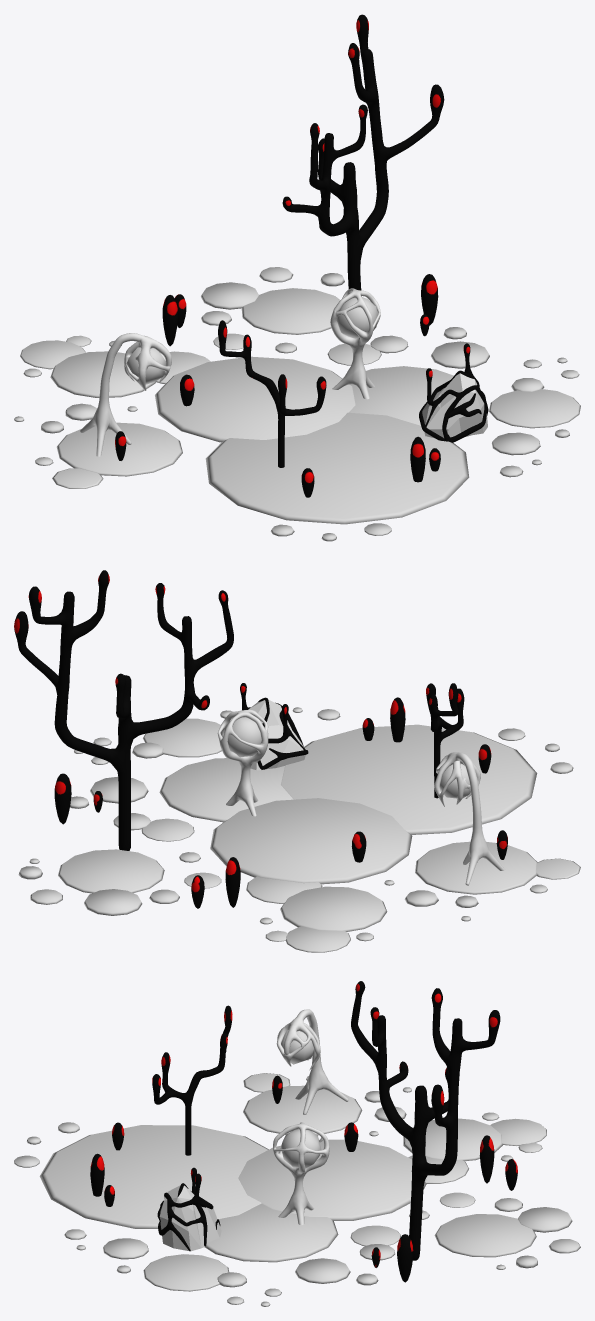
The model's file is CorruptionSet_5.fbx.
The picture shows the model from 3 angles, top to bottom: view 1: azimuth 30°, elevation 25°; view 2: azimuth 150°, elevation 25°; view 3: azimuth 270°, elevation 25°; orthographic projection. The views are drawn at different scales.
Visible parts, largest first — view 1: Circles, CorruptedTree1, Blobs, DownwardOrbStand, UpwardOrbStand, CorruptedTree2, rocks.001, Cube, Ball2, Ball1; view 2: Circles, CorruptedTree1, Blobs, DownwardOrbStand, UpwardOrbStand, CorruptedTree2, rocks.001, Cube, Ball2, Ball1; view 3: Circles, CorruptedTree1, Blobs, DownwardOrbStand, rocks.001, UpwardOrbStand, CorruptedTree2, Cube, Ball2, Ball1.
Part boxes in pixels (x1,y1,x2,y2): Circles: [14, 267, 580, 541]; CorruptedTree1: [282, 14, 444, 296]; Blobs: [115, 274, 440, 497]; DownwardOrbStand: [80, 333, 171, 456]; UpwardOrbStand: [330, 288, 380, 399]; CorruptedTree2: [218, 320, 326, 467]; rocks.001: [422, 373, 487, 438]; Cube: [419, 343, 488, 442]; Ball2: [336, 297, 377, 338]; Ball1: [125, 347, 166, 384]; Circles: [18, 707, 580, 952]; CorruptedTree1: [14, 570, 233, 850]; Blobs: [54, 697, 507, 908]; DownwardOrbStand: [434, 752, 505, 885]; UpwardOrbStand: [217, 709, 268, 816]; CorruptedTree2: [426, 683, 464, 798]; rocks.001: [248, 700, 305, 770]; Cube: [240, 683, 308, 769]; Ball2: [224, 717, 261, 757]; Ball1: [438, 764, 470, 798]; Circles: [14, 1073, 580, 1306]; CorruptedTree1: [351, 981, 500, 1260]; Blobs: [90, 1075, 517, 1282]; DownwardOrbStand: [276, 1009, 348, 1114]; rocks.001: [159, 1185, 221, 1251]; UpwardOrbStand: [273, 1122, 329, 1225]; CorruptedTree2: [152, 1005, 232, 1155]; Cube: [157, 1167, 220, 1251]; Ball2: [281, 1129, 321, 1168]; Ball1: [281, 1030, 314, 1064].
Bounding box in the file's own units: 739 × 406 × 757.
